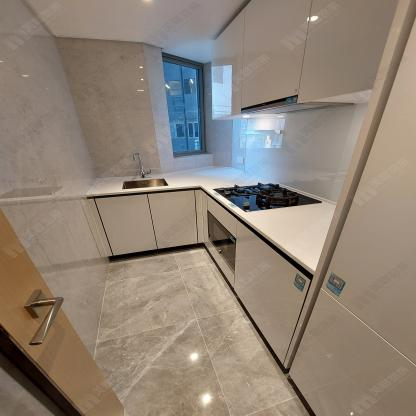Cupboard: (232, 0, 416, 416), (208, 0, 402, 119), (87, 189, 205, 265)
Exhaust Hood: (240, 95, 355, 114)
Faucet: (125, 150, 153, 178)
Microwave: (208, 210, 237, 276)
Sink: (121, 177, 170, 190)
Stove: (211, 181, 324, 212)
